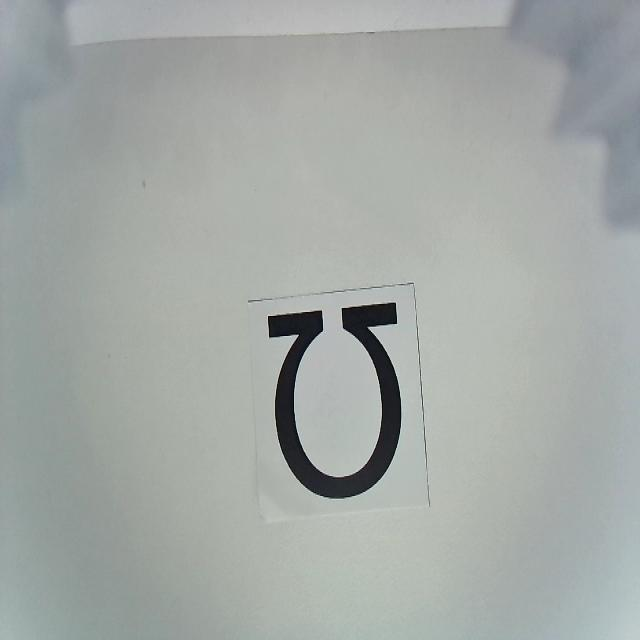OM: (267, 302, 402, 501)
